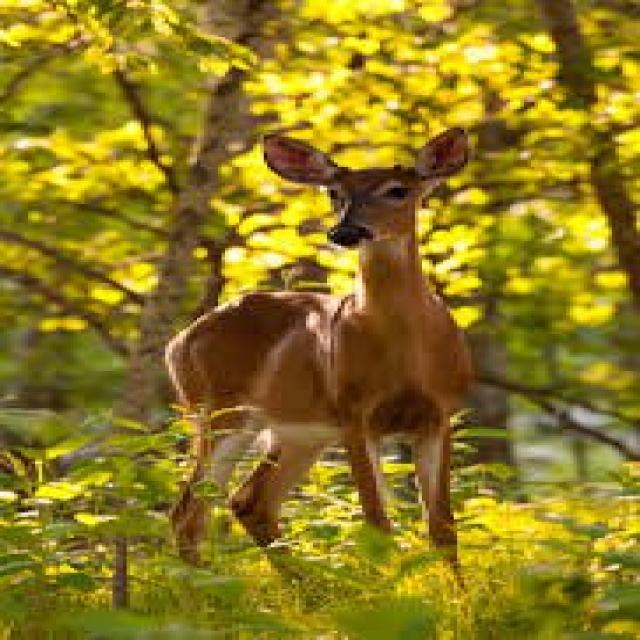Deer: (156, 120, 498, 576)
